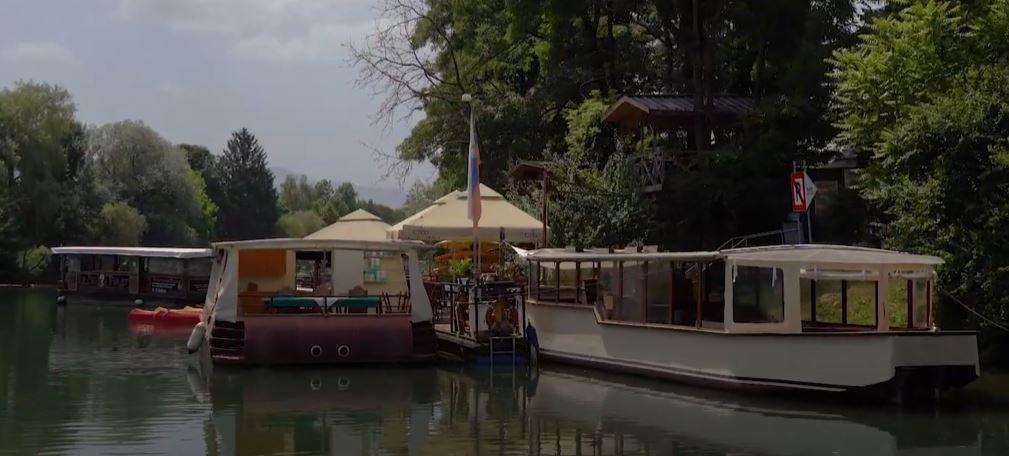Ship: (514, 245, 993, 417)
